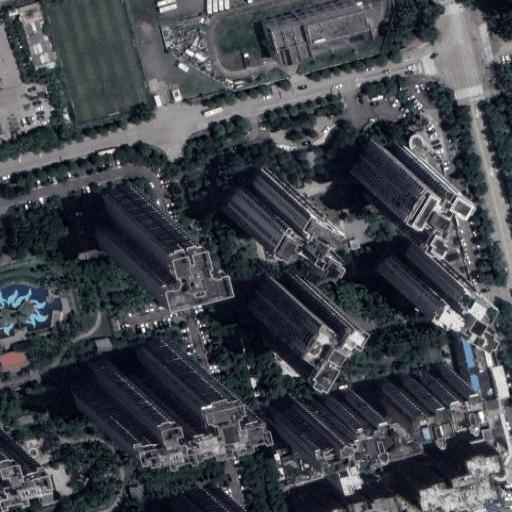building: (268, 363, 442, 463), (69, 337, 202, 418), (401, 444, 496, 509), (220, 171, 296, 241), (262, 0, 362, 53), (244, 273, 313, 347), (345, 135, 411, 204), (97, 190, 166, 252), (373, 242, 439, 300), (305, 485, 388, 512), (164, 484, 225, 512), (409, 491, 477, 512), (0, 341, 28, 368), (489, 367, 508, 397), (477, 371, 496, 401), (340, 474, 361, 493), (484, 397, 500, 415), (474, 488, 489, 507), (469, 375, 482, 396), (348, 466, 357, 476)
